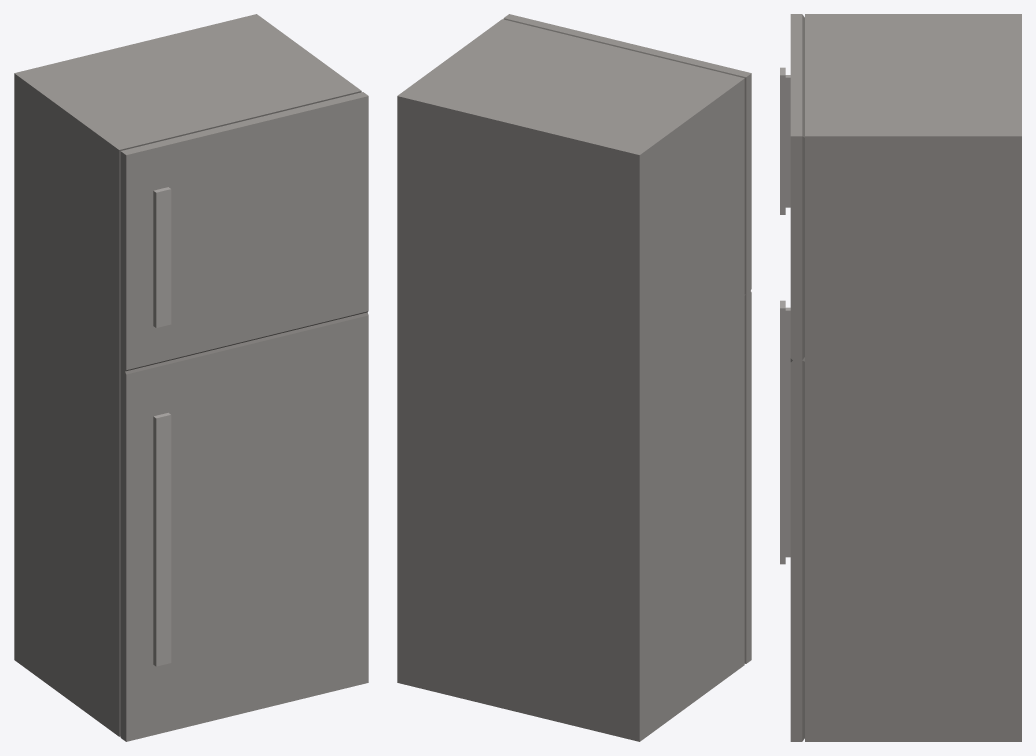
File: SM_Props_Interior_House_Kitchen_Refrigerator.fbx
3 renders of one model, left to right at view 1: azimuth 30°, elevation 25°; view 2: azimuth 150°, elevation 25°; view 3: azimuth 270°, elevation 25°, orthographic. The views are drawn at different scales.
Visible parts, largest first — view 1: SM_Props_Interior_House_Kitchen_Refrigerator; view 2: SM_Props_Interior_House_Kitchen_Refrigerator; view 3: SM_Props_Interior_House_Kitchen_Refrigerator.
Part boxes in pixels (<box>): SM_Props_Interior_House_Kitchen_Refrigerator: <box>14,14,368,741</box>; SM_Props_Interior_House_Kitchen_Refrigerator: <box>397,14,751,741</box>; SM_Props_Interior_House_Kitchen_Refrigerator: <box>780,14,1021,741</box>.
Bounding box in the file's own units: 90 × 208 × 75.3.
